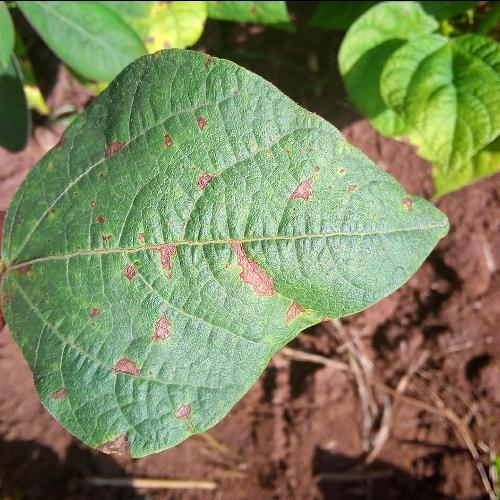embun tepung: (80, 158, 223, 244)
